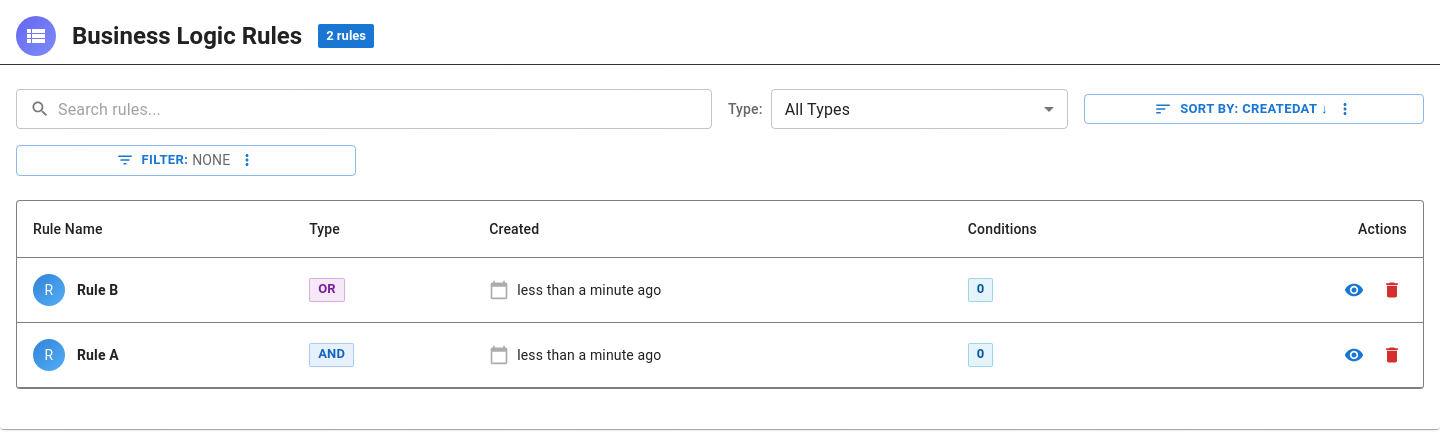
it: RuleList › filters by search
Type "Rule A" into the field with placeholder "Search rules...". click: [385, 109]
box: [58,89,712,129]
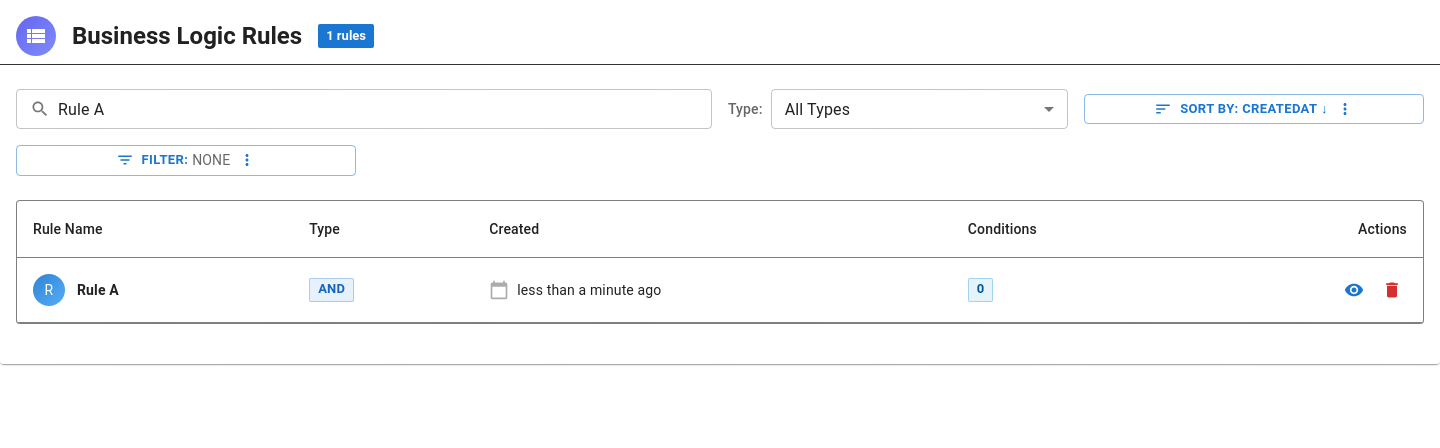
Expected: the text "Rule A" is shown, [77,280,119,300]
Now the text "Rule B" is gone
